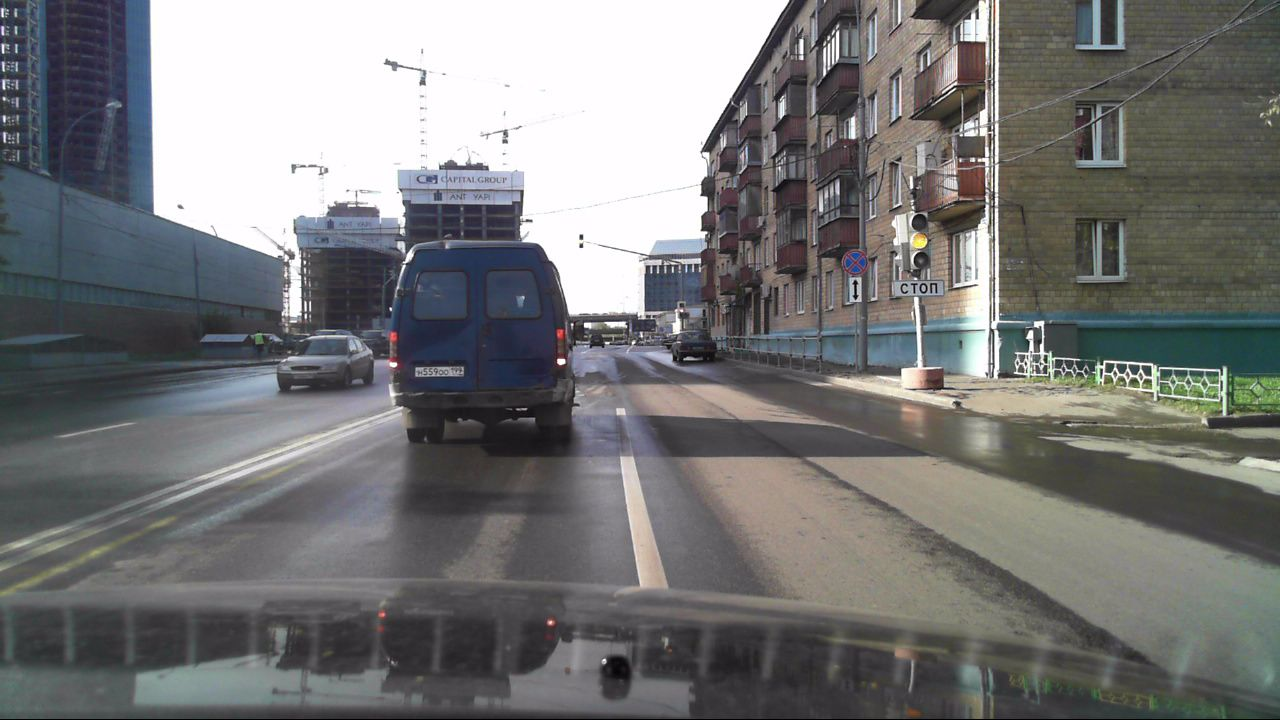No Parking: (841, 247, 868, 276)
